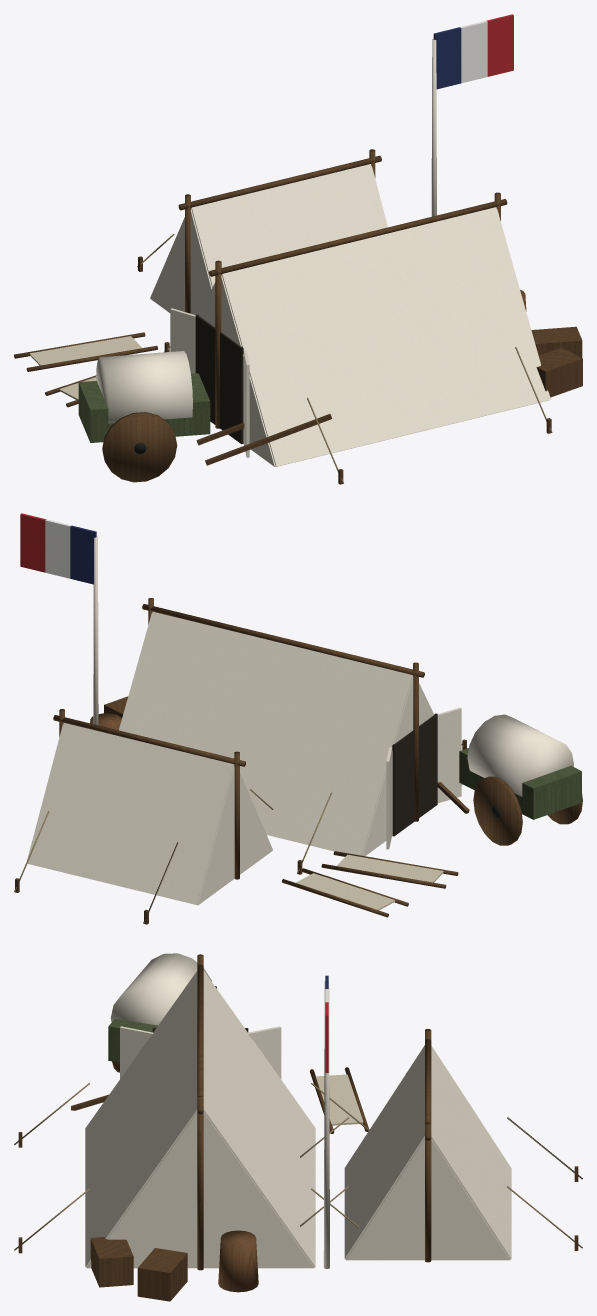
Rendered from hospital_fr.glb.
3 renders of one model, top to bottom at view 1: azimuth 30°, elevation 25°; view 2: azimuth 150°, elevation 25°; view 3: azimuth 270°, elevation 25°, orthographic. The views are drawn at different scales.
Parts seen in each view (by area): view 1: hospital_fr; view 2: hospital_fr; view 3: hospital_fr.
Boxes of the visible parts, left/top/right/bottom form: hospital_fr: left=14, top=14, right=582, bottom=484; hospital_fr: left=14, top=513, right=582, bottom=924; hospital_fr: left=14, top=953, right=582, bottom=1301.
Bounding box in the file's own units: 9.63 × 5.12 × 9.01.
Materials: 1 (1 with a texture image).
